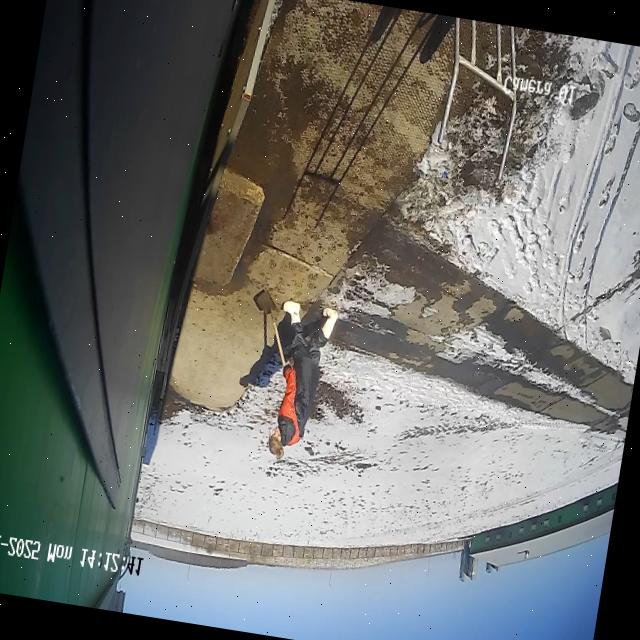Red uniform: (256, 295, 342, 466)
